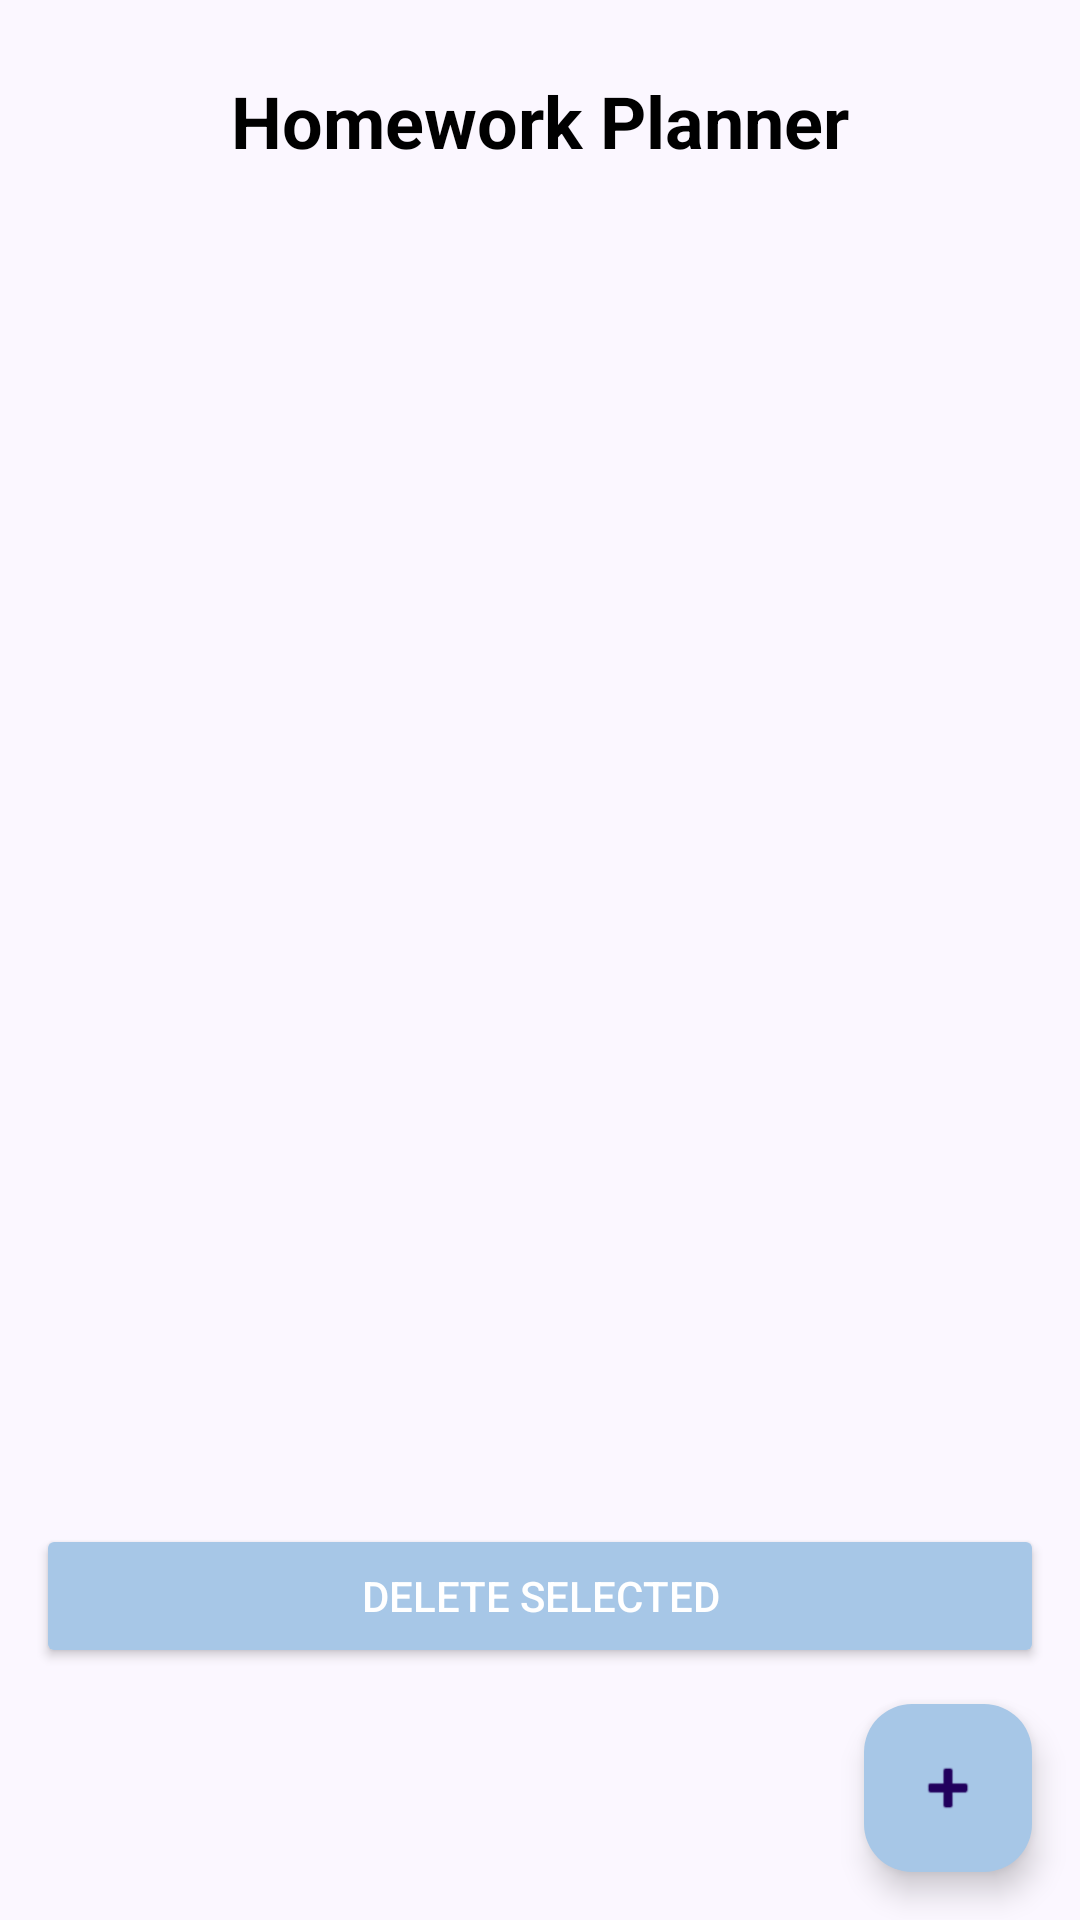

Icons on this 1080 × 1920 Android screen, each with its box as (x1, y1, x2, y2):
Add Task: (864, 1704, 1032, 1872)
